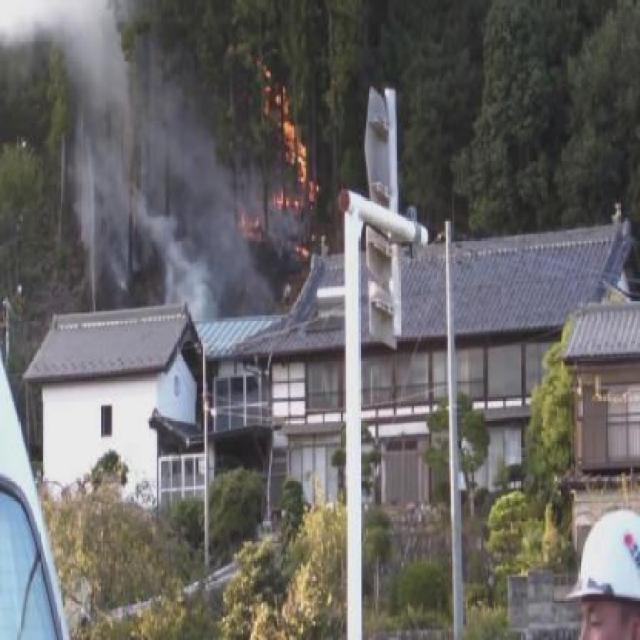Fire: (264, 91, 310, 211), (238, 212, 260, 240), (294, 243, 310, 257)
